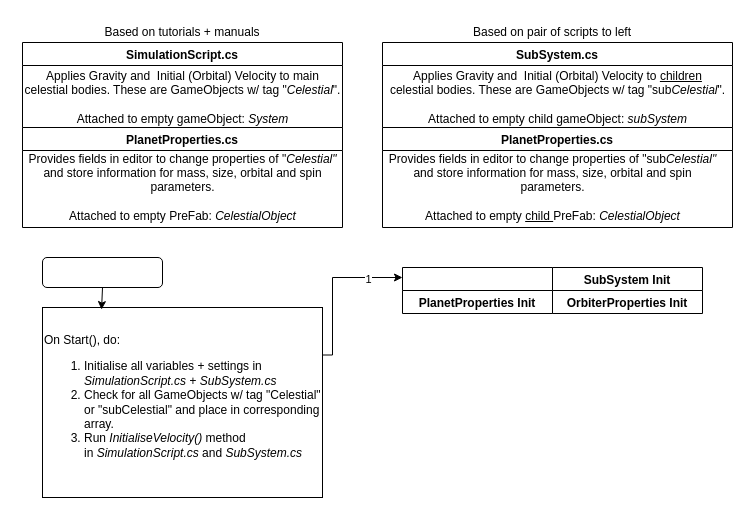
Image size: 750x515. Some labels were removed from this diagram. The shapes that lost their labels are listed below. From the top down, each one's centre as x and y in pixels, then its label:
the point at 102,272: Start Simulation
the point at 477,278: SimulationScript Init
